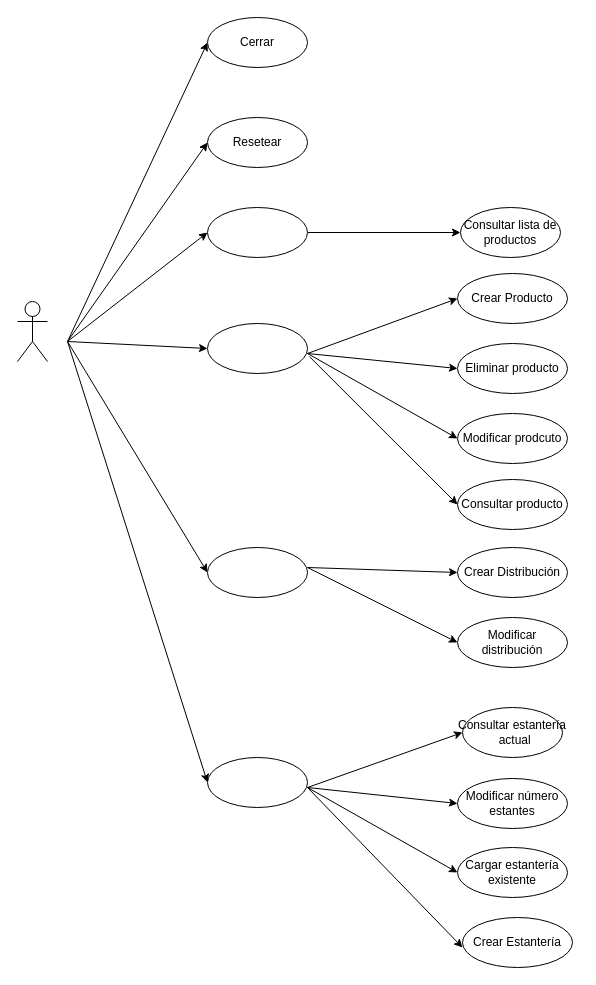
Some shapes in this 596 by 985 pixel diagram are drawn without their labels. Each missing label, with the centre of its shape:
Actor: the point at 32,331
Gestión catálogo: the point at 257,232
Gestión Distribución: the point at 257,572
Gestión Estanteria: the point at 257,782
Gestión producto: the point at 257,348
